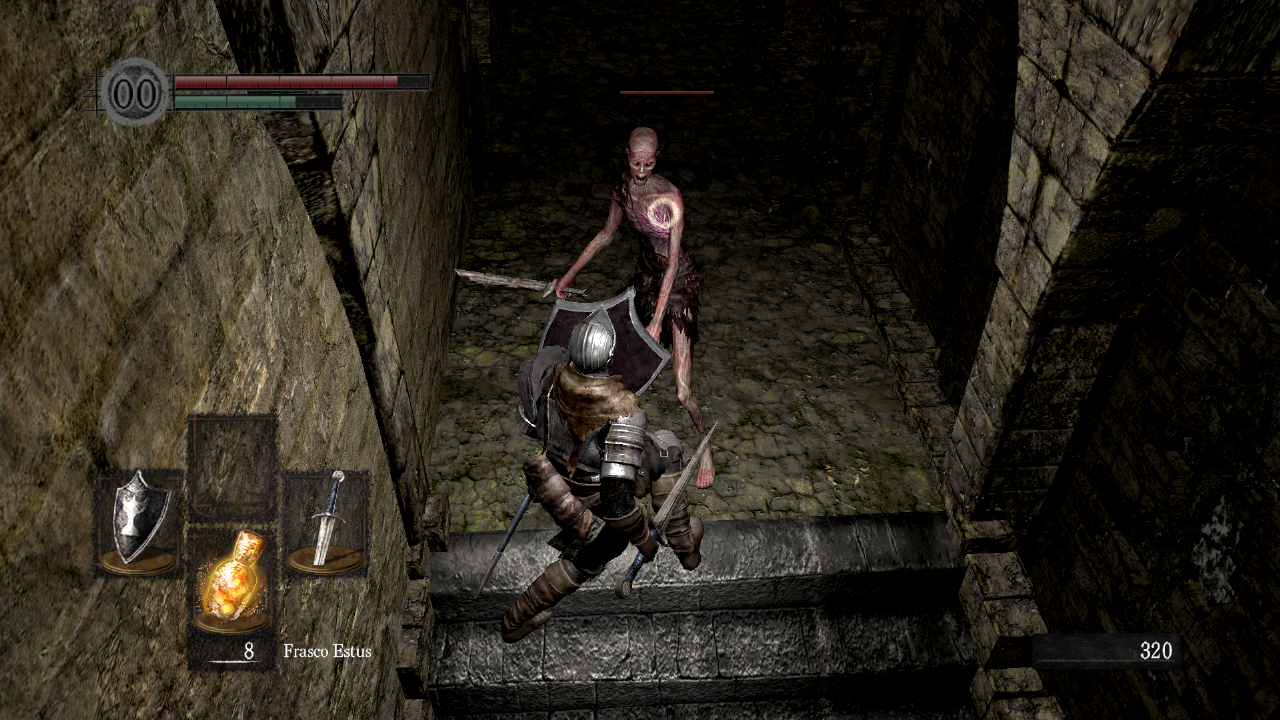hollow: (454, 127, 715, 490)
player: (474, 285, 719, 642)
